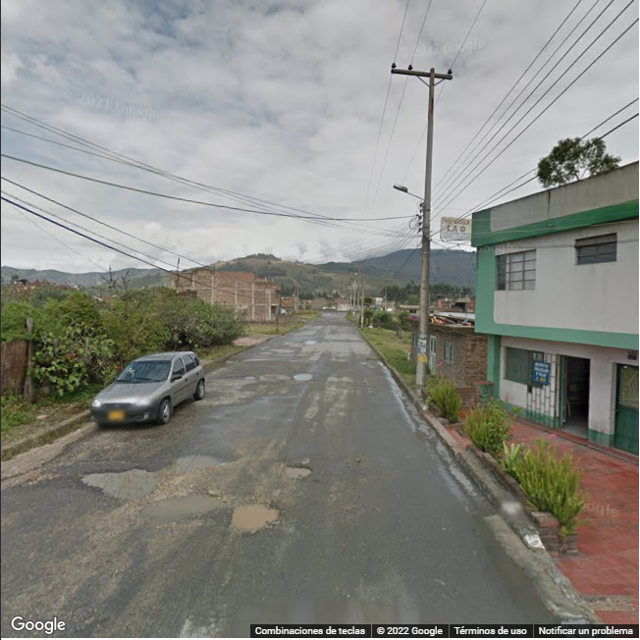D40: (228, 496, 277, 535), (168, 449, 229, 478), (274, 460, 316, 481)
